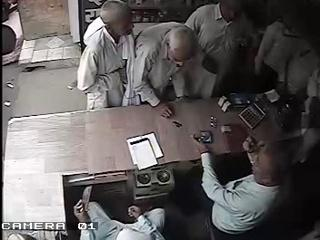Normal: (2, 92, 314, 240), (192, 94, 304, 239), (184, 0, 275, 99), (126, 22, 198, 119), (73, 198, 166, 240)
shoplifting: (76, 1, 136, 110)
